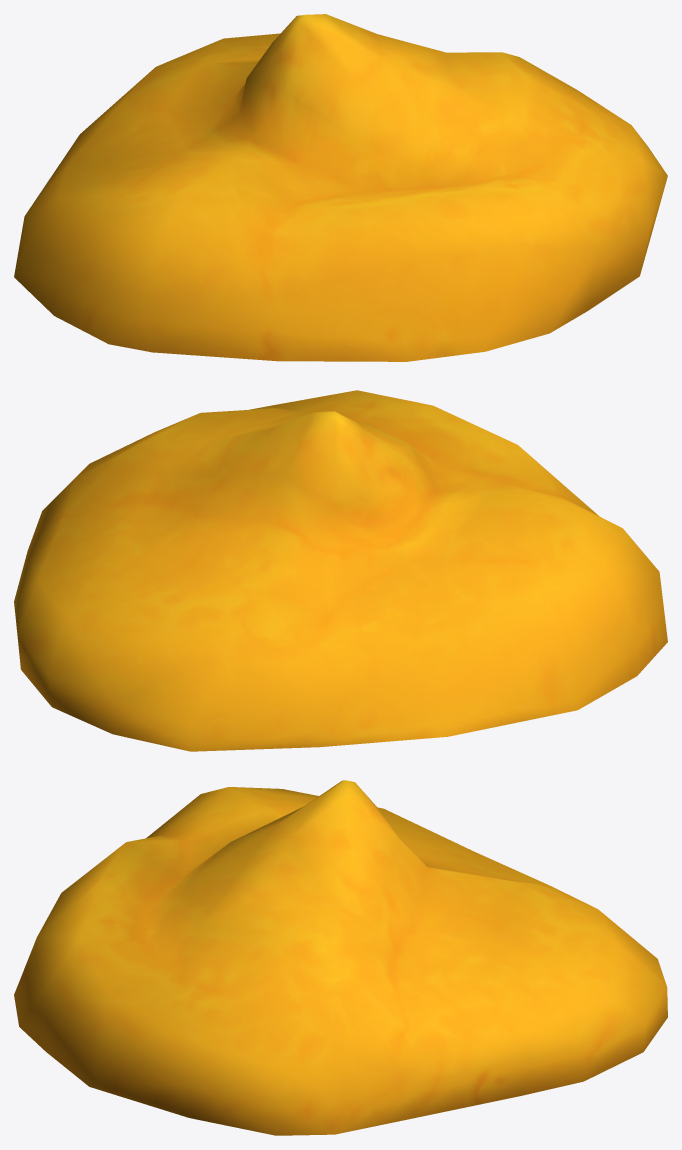
The model's file is SM_MustardSauce.glb.
3 views of the same model, one above another, from view 1: azimuth 30°, elevation 25°; view 2: azimuth 150°, elevation 25°; view 3: azimuth 270°, elevation 25° (orthographic). The views are drawn at different scales.
Parts seen in each view (by area): view 1: SM_MustardSauce; view 2: SM_MustardSauce; view 3: SM_MustardSauce.
Part boxes in pixels (x1,y1,x2,y2): SM_MustardSauce: (14, 14, 667, 361); SM_MustardSauce: (14, 390, 667, 751); SM_MustardSauce: (14, 780, 667, 1135).
Bounding box in the file's own units: 0.0998 × 0.0352 × 0.0993.
Materials: 1 (1 with a texture image).
